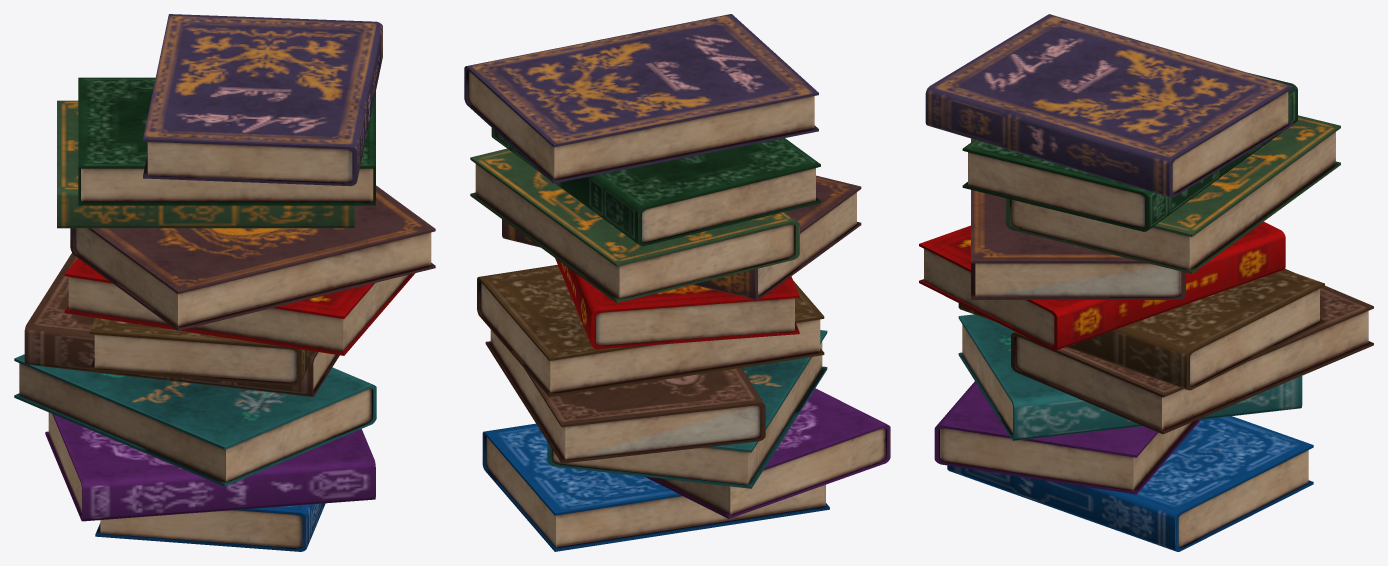
Rendered from sb_obj_DemonsCastle005_books01.fbx.
3 views of the same model, side by side, from view 1: azimuth 30°, elevation 25°; view 2: azimuth 150°, elevation 25°; view 3: azimuth 270°, elevation 25° (orthographic).
Parts seen in each view (by area): view 1: sb_obj_DemonsCastle005_books_1; view 2: sb_obj_DemonsCastle005_books_1; view 3: sb_obj_DemonsCastle005_books_1.
Part boxes in pixels (x1,y1,x2,y2): sb_obj_DemonsCastle005_books_1: (14, 14, 435, 551); sb_obj_DemonsCastle005_books_1: (464, 14, 890, 551); sb_obj_DemonsCastle005_books_1: (919, 14, 1373, 551).
Bounding box in the file's own units: 0.6052 × 0.6357 × 0.6489.
1 material, 1 textured.
